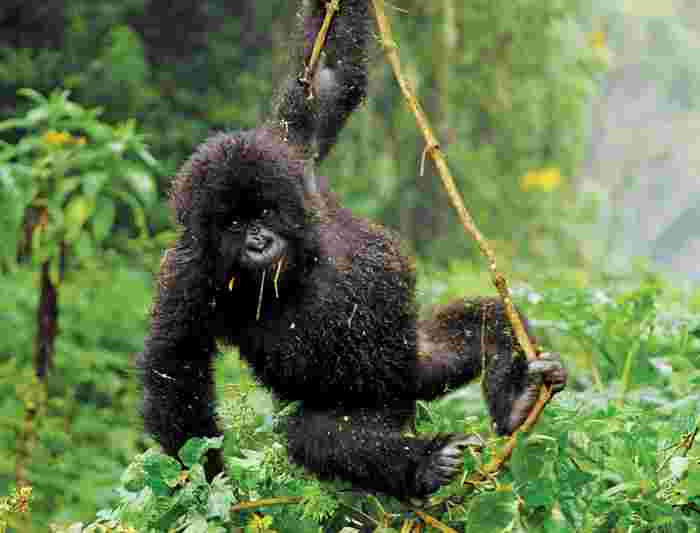Goriila: (132, 56, 563, 495)
